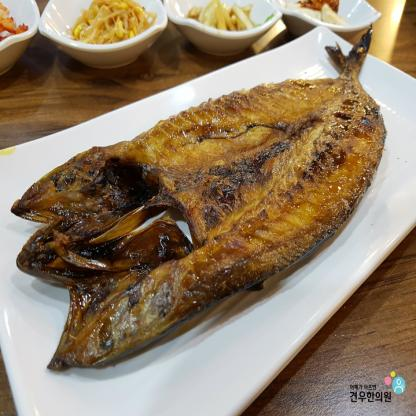Peixe: (9, 20, 390, 382)
